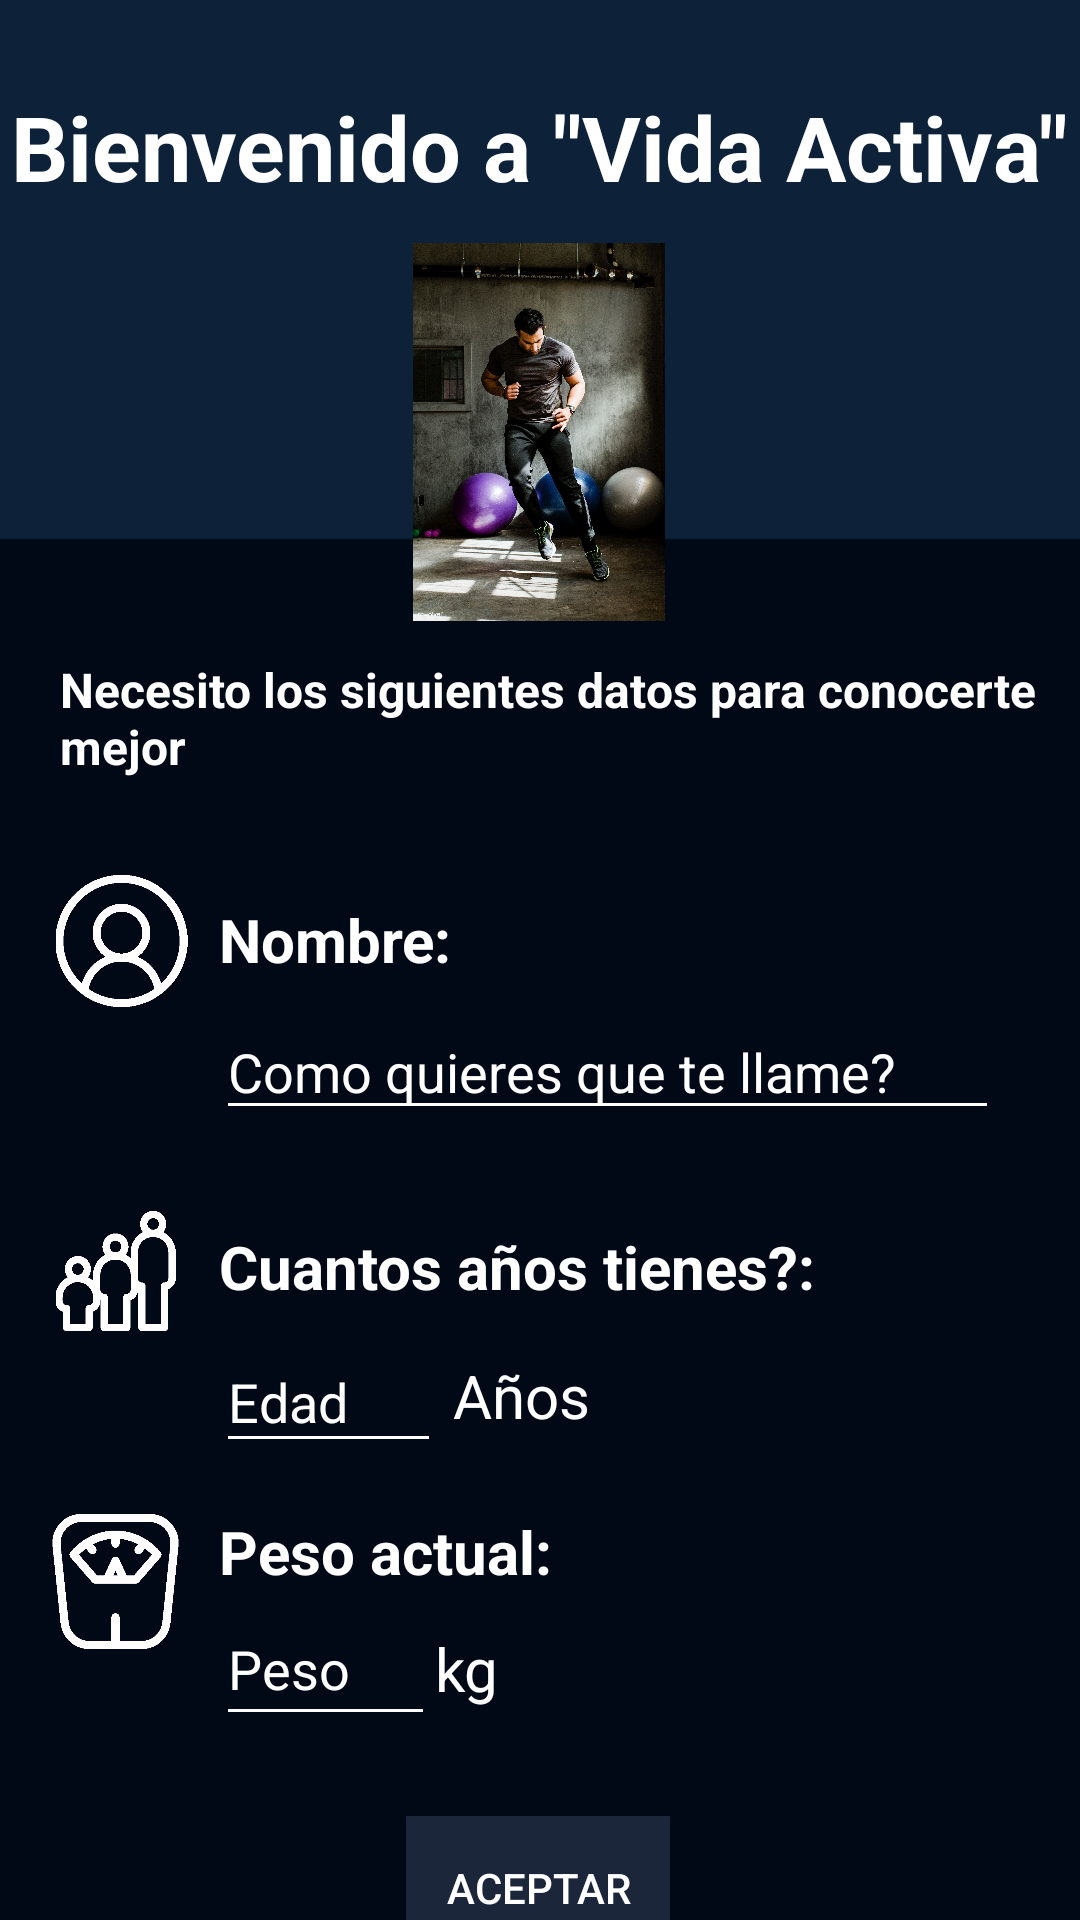

Icon click points for this 1080 × 1920 phone screenshot, format (x,y):
bascula: (115,1581)
